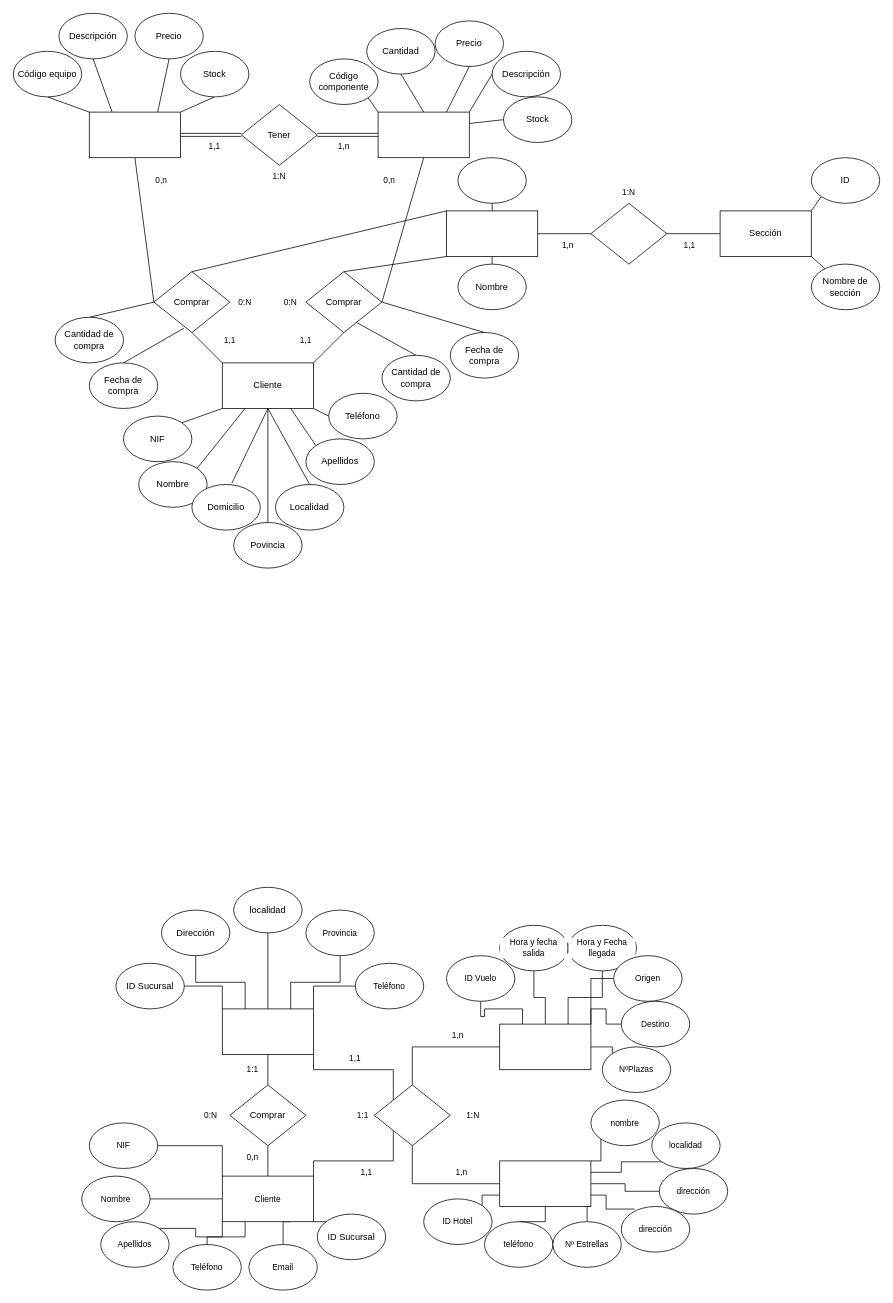
The diagram is 893 pixels wide and 1303 high, and some of its shapes have lost their labels. The shapes that lost their labels are listed below. From the top down, each one's centre as x and y in pixels, then its label:
pixel 134 134: Equipo
pixel 423 134: Componentes
pixel 491 180: Compra intervenida
pixel 492 233: Empleado
pixel 628 233: Trabaja
pixel 268 1031: Sucursal
pixel 545 1046: vuelos
pixel 412 1115: Contratar
pixel 545 1183: Hotel
